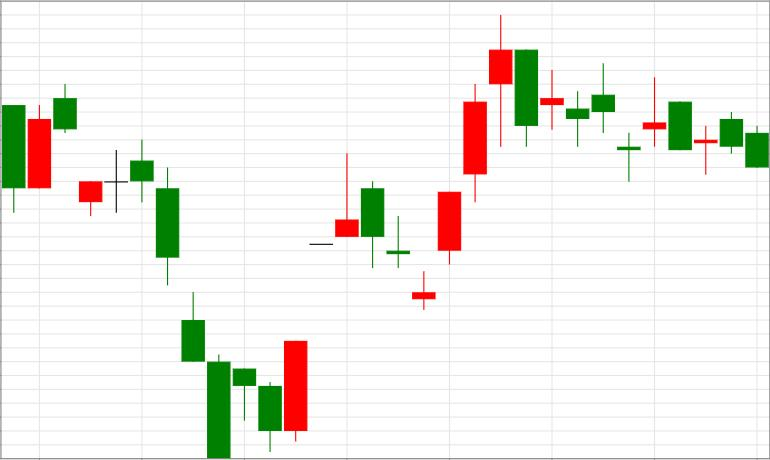three_white_soldiers_rise: (336, 14, 512, 310)
